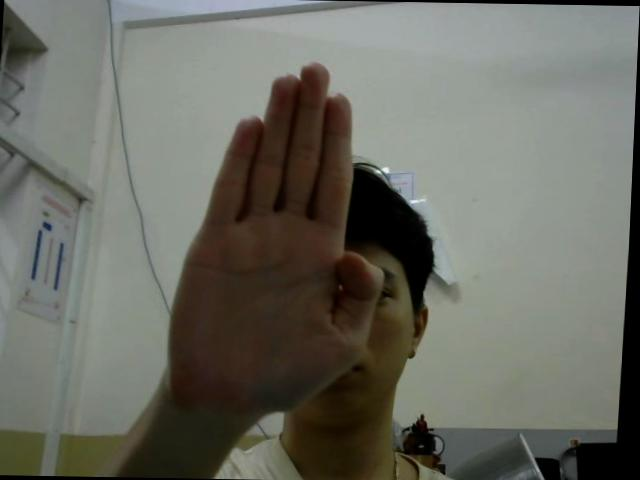B: (168, 59, 396, 414)
